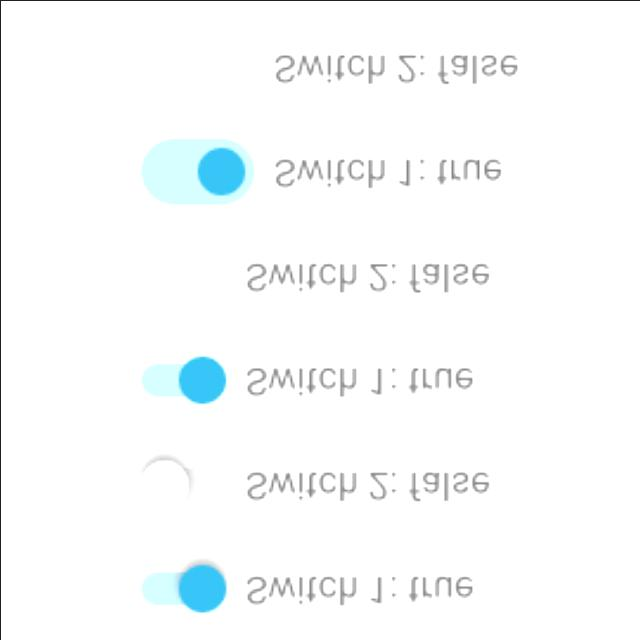QLabel: (243, 360, 472, 400), (244, 466, 490, 502), (272, 50, 518, 84), (273, 154, 502, 190), (243, 260, 491, 292), (242, 572, 474, 606)
VSwitch: (138, 134, 258, 210), (138, 31, 255, 103), (136, 453, 230, 512), (134, 562, 228, 614), (137, 356, 227, 404), (143, 250, 230, 298)
